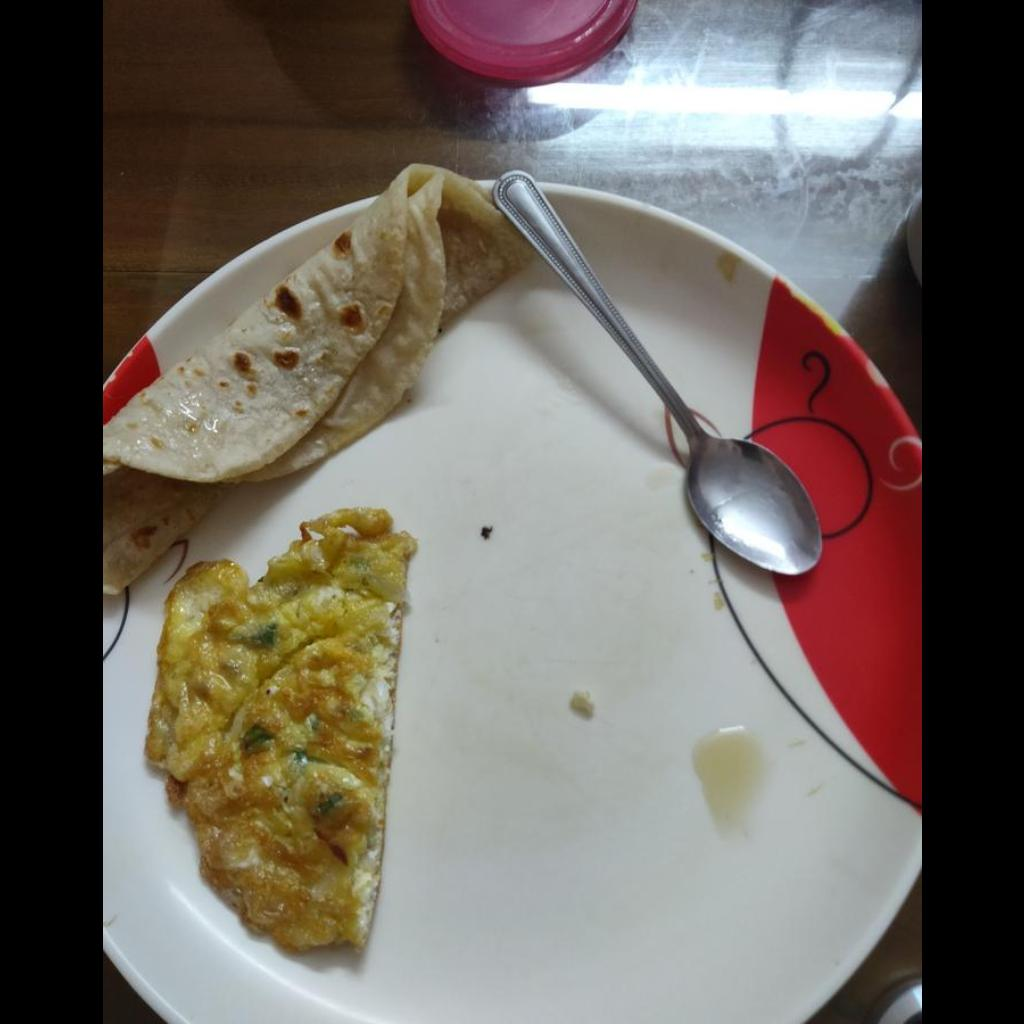egg-poached: (139, 504, 414, 955)
ruti: (106, 164, 528, 594)
